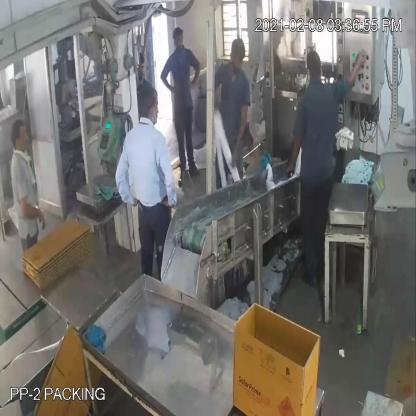no_glove: (13, 189, 49, 237), (232, 86, 253, 165), (116, 149, 139, 214), (158, 147, 178, 207), (158, 58, 178, 102), (348, 53, 367, 86), (188, 53, 201, 91)
